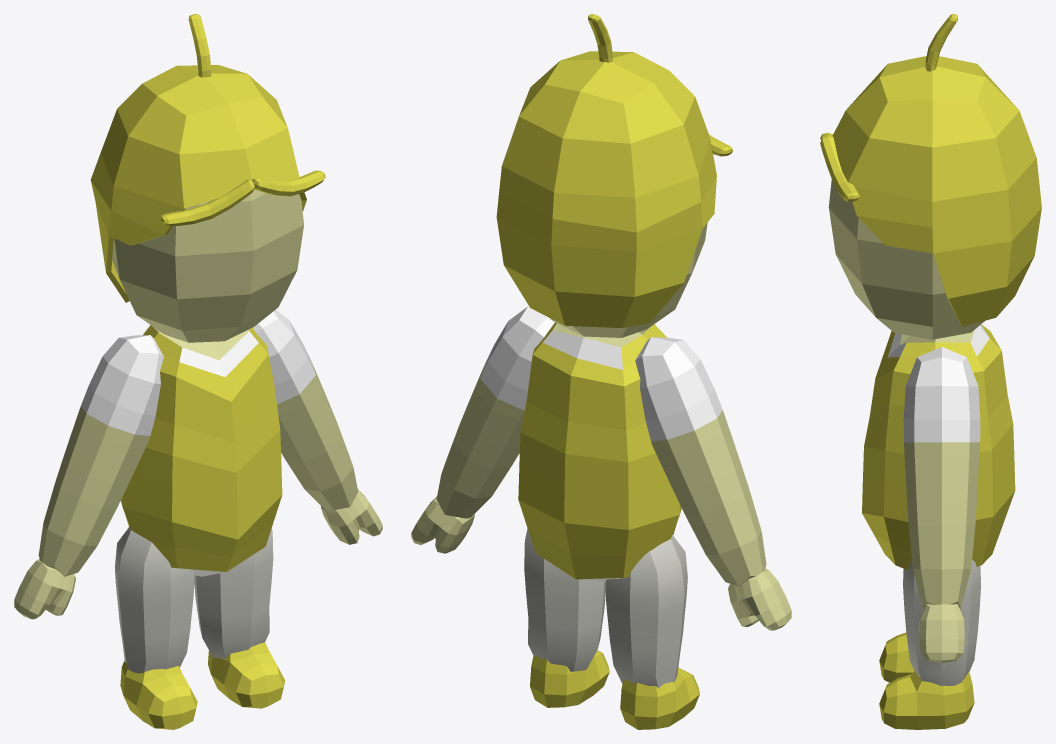
Rendered from Banana boy.fbx.
3 renders of one model, left to right at view 1: azimuth 30°, elevation 25°; view 2: azimuth 150°, elevation 25°; view 3: azimuth 270°, elevation 25°, orthographic. The views are drawn at different scales.
Visible parts, largest first — view 1: Banana boy; view 2: Banana boy; view 3: Banana boy.
Part boxes in pixels (box(x1,y1,x2,y2)): Banana boy: box(14, 14, 382, 729); Banana boy: box(411, 14, 791, 729); Banana boy: box(820, 14, 1041, 729).
Bounding box in the file's own units: 176 × 320 × 93.04.
